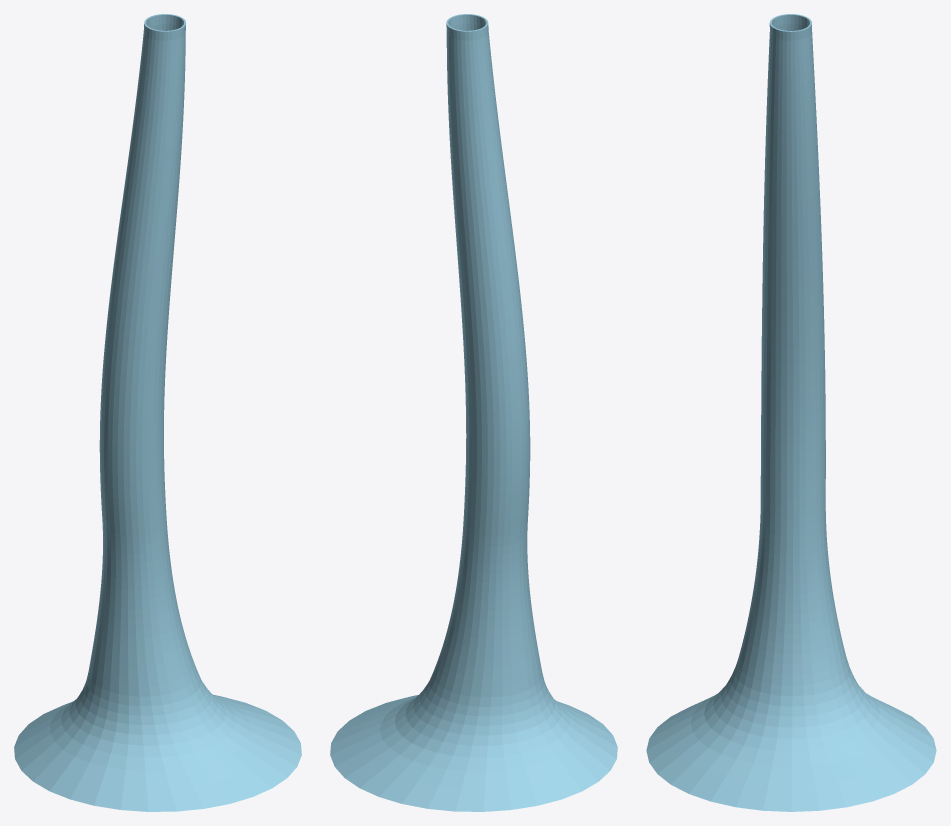
The model's file is WaterSpout.fbx.
3 views of the same model, side by side, from view 1: azimuth 30°, elevation 25°; view 2: azimuth 150°, elevation 25°; view 3: azimuth 270°, elevation 25° (orthographic).
Visible parts, largest first — view 1: Cylinder; view 2: Cylinder; view 3: Cylinder.
Part boxes in pixels (box(x1,y1,x2,y2)): Cylinder: box(14, 14, 301, 811); Cylinder: box(330, 14, 617, 811); Cylinder: box(646, 14, 936, 811).
Bounding box in the file's own units: 893 × 2482 × 893.
